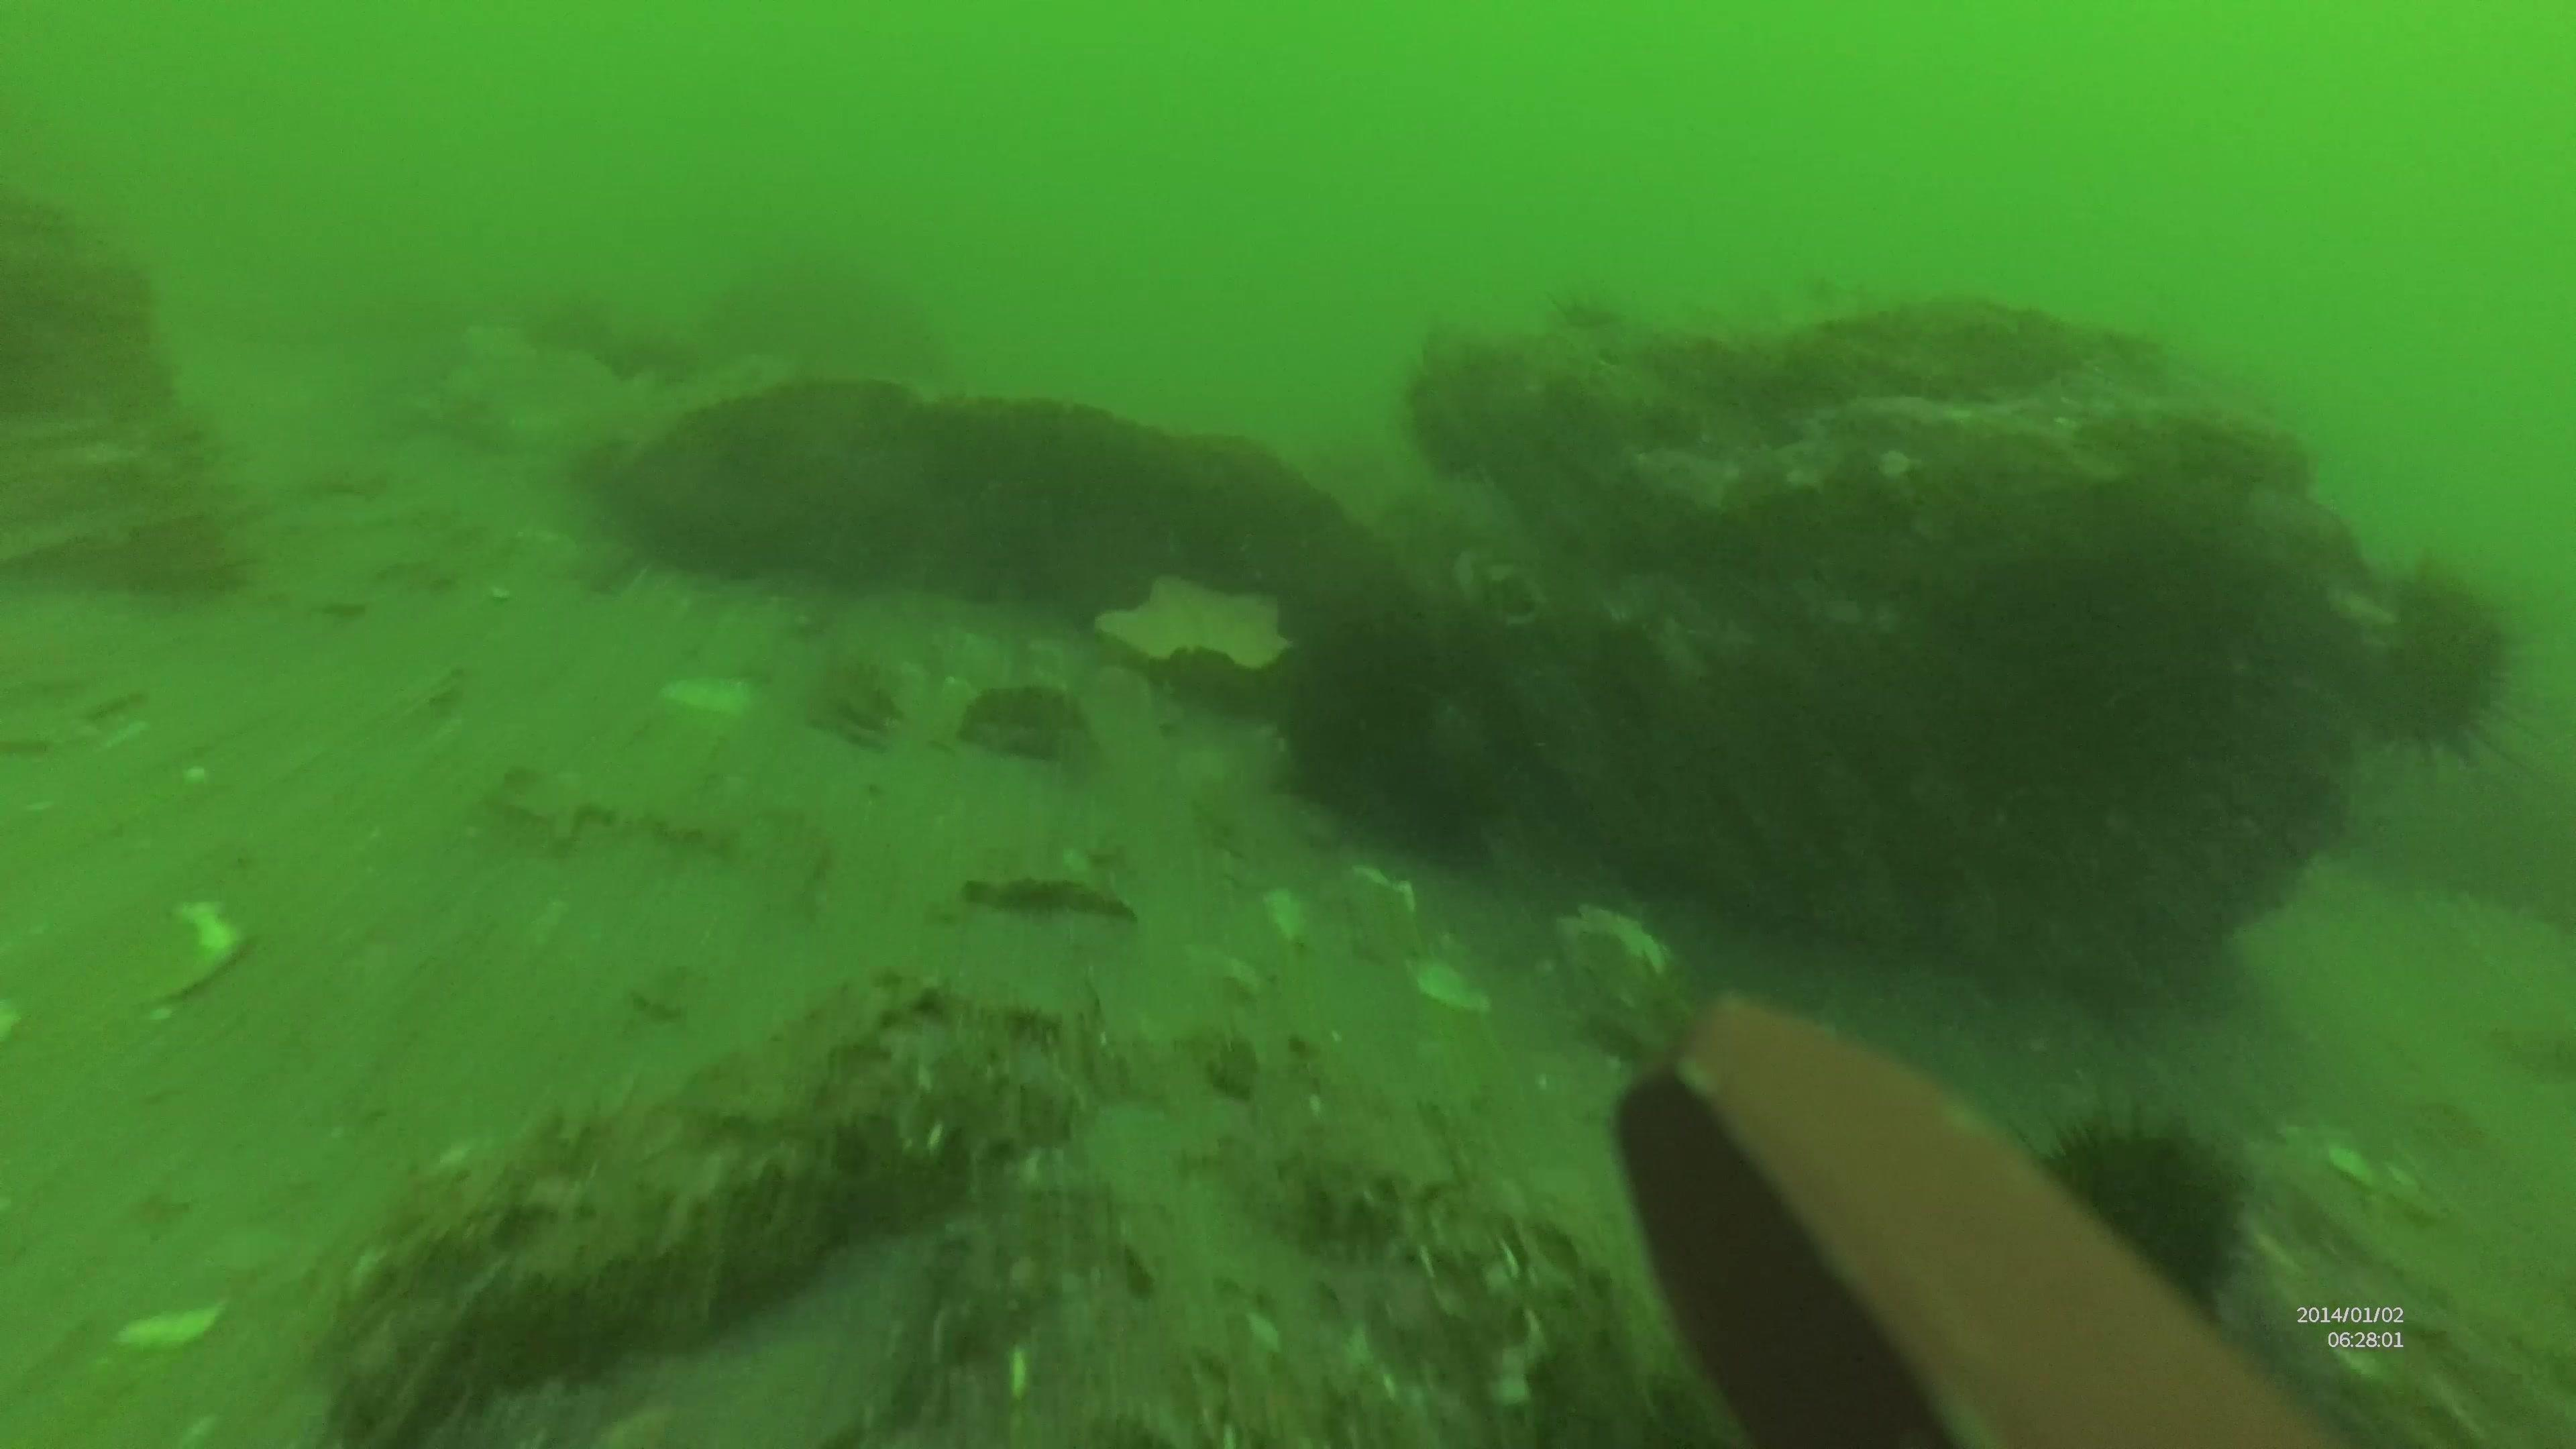echinus: (2049, 1095, 2250, 1345), (2360, 554, 2551, 775)
starfish: (1088, 561, 1302, 694)
